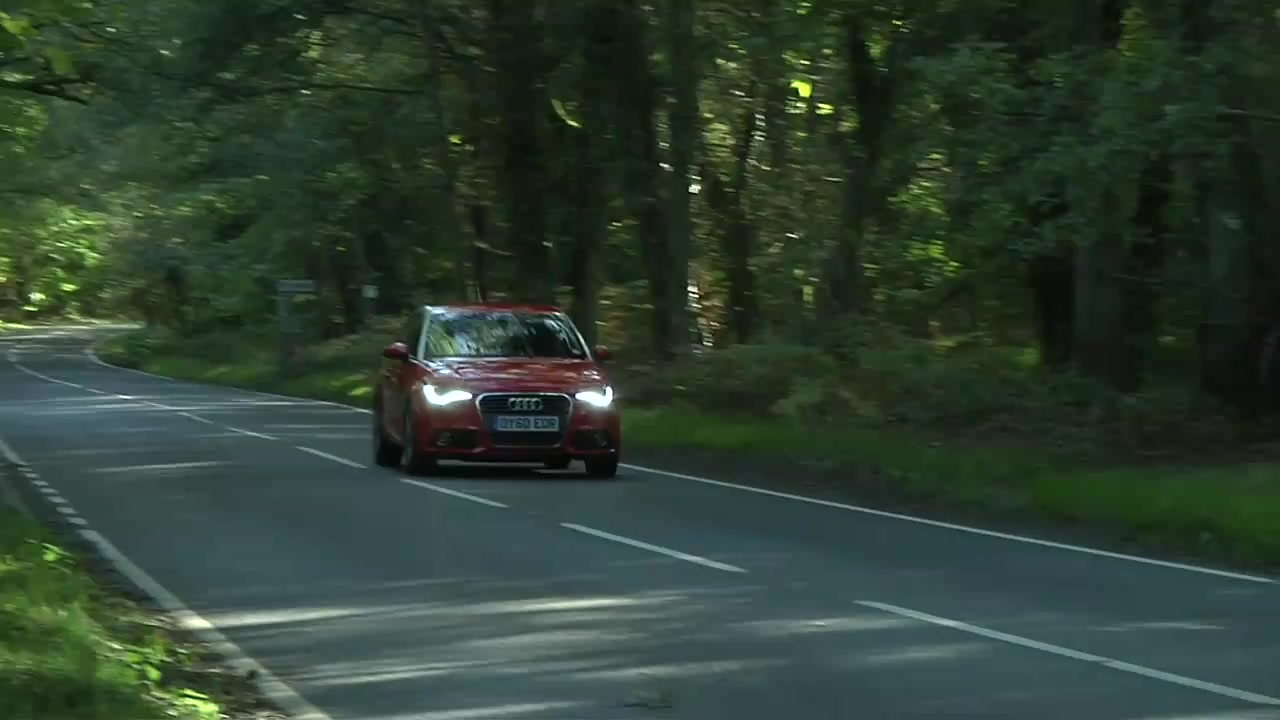car: (374, 305, 632, 484)
